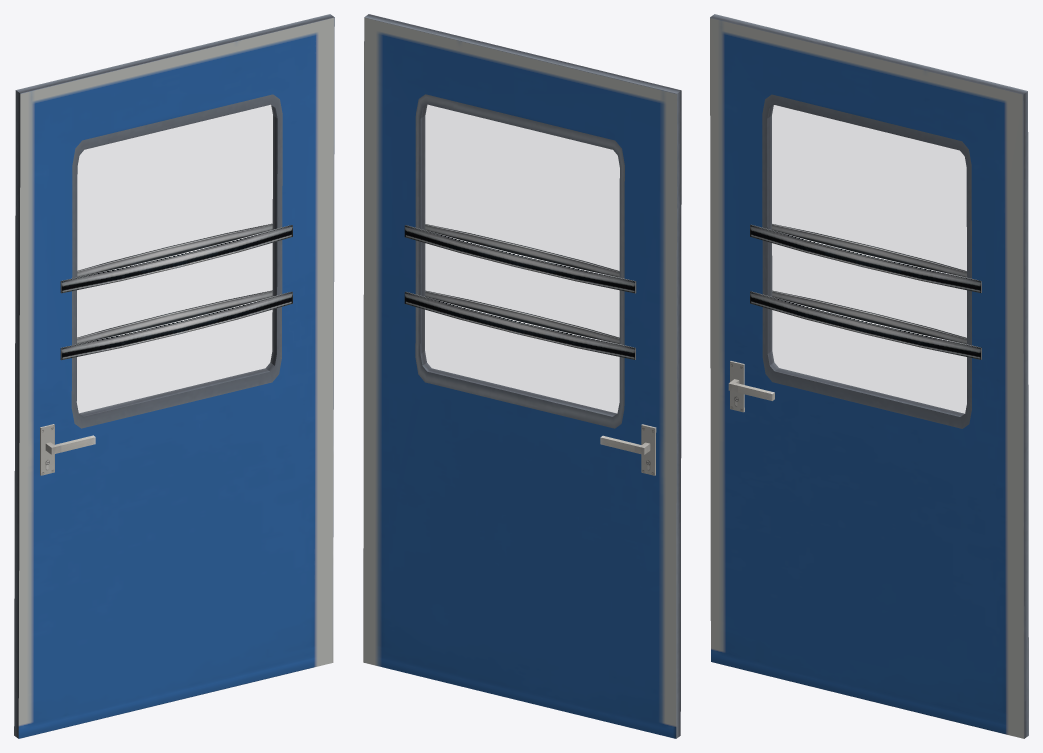
Rendered from Train02vip_1Door_b.FBX.
The picture shows the model from 3 angles, left to right: view 1: azimuth 30°, elevation 25°; view 2: azimuth 150°, elevation 25°; view 3: azimuth 330°, elevation 25°; orthographic projection.
Visible parts, largest first — view 1: Train02vip_Door1; view 2: Train02vip_Door1; view 3: Train02vip_Door1.
Part boxes in pixels (x1=…): Train02vip_Door1: x1=14, y1=14, x2=334, y2=738; Train02vip_Door1: x1=363, y1=14, x2=681, y2=738; Train02vip_Door1: x1=710, y1=14, x2=1028, y2=738.
Size of the model in its own units: 74.13 by 146 by 7.74.
